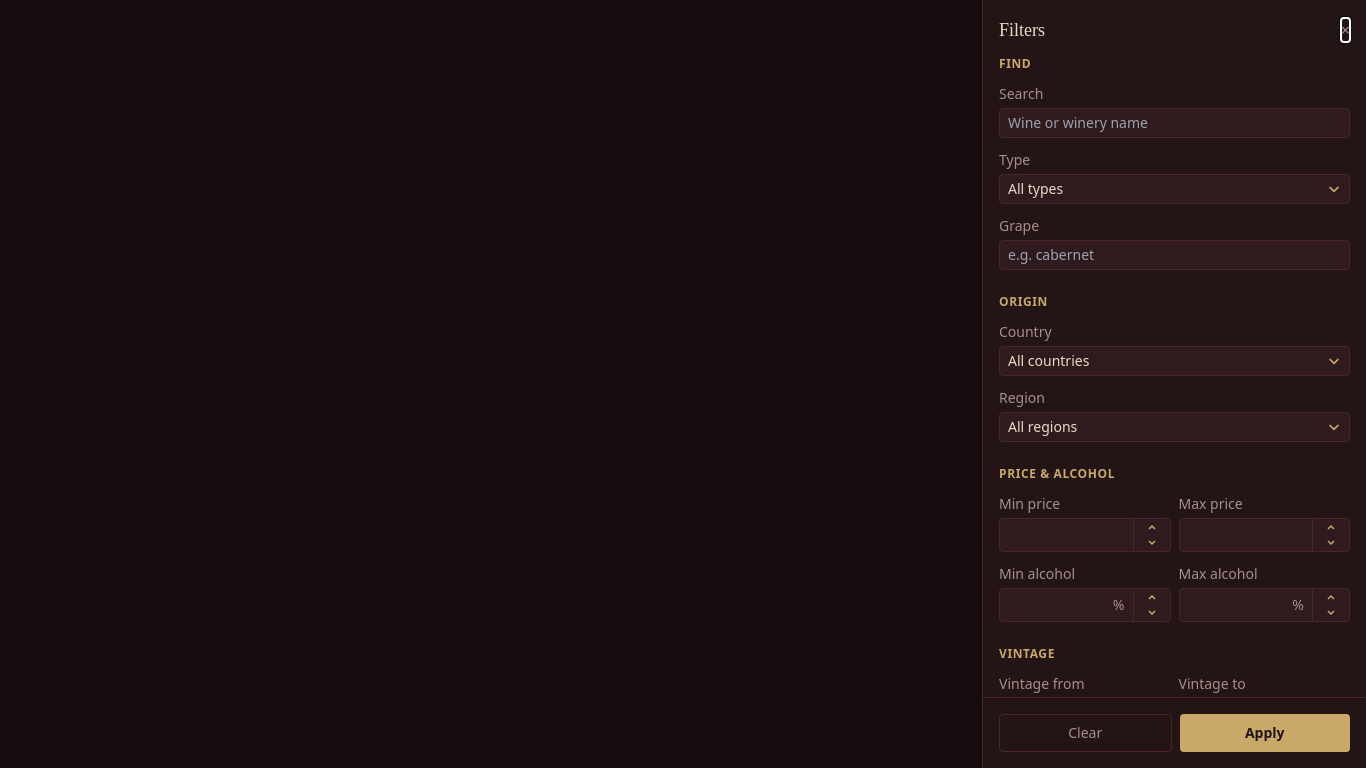
Test: FilterDrawer › groups every region by country when no country is chosen
Step 1. Click the dropdown labelled "Region" → {"x": 1174, "y": 427}, box [999,412,1350,442]
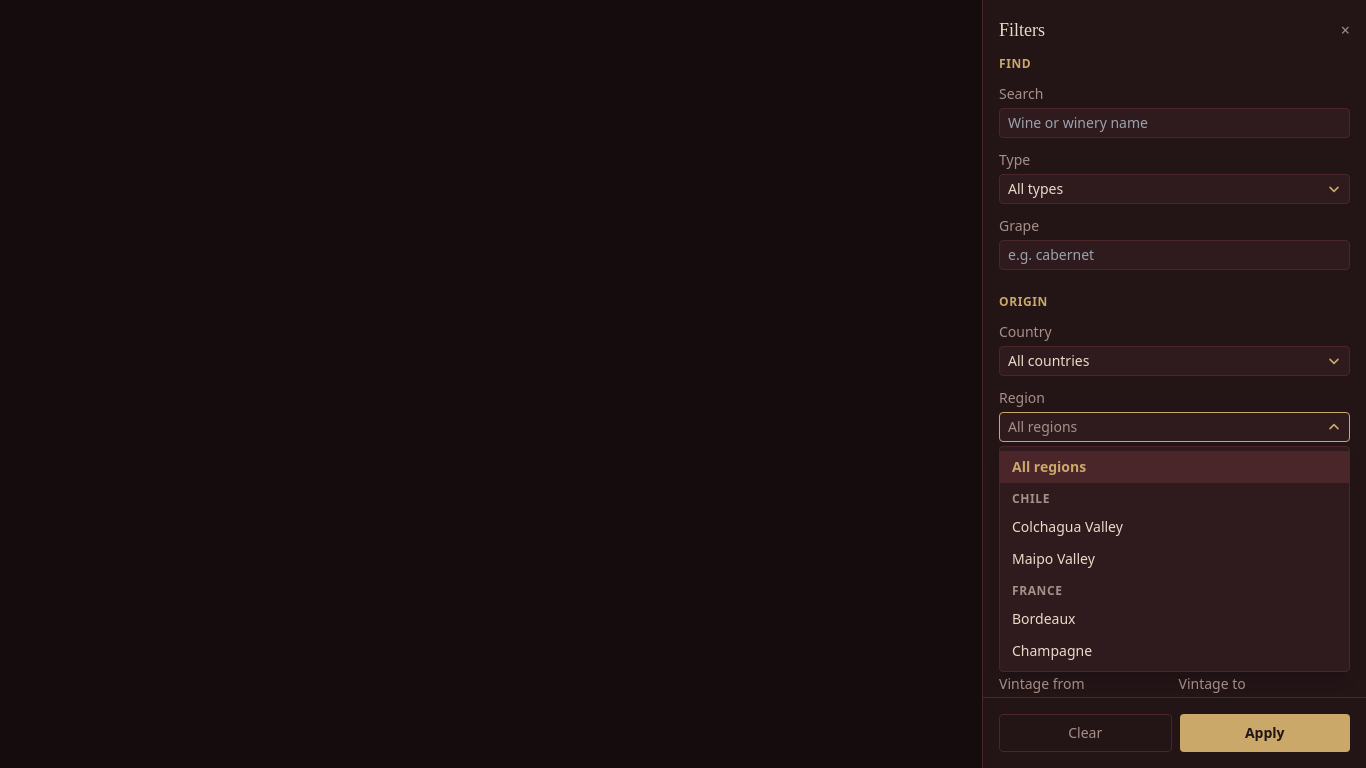
Expected: the list named "Chile" reads "Colchagua Valley Maipo Valley", [1012,517,1123,568]
Expected: the list named "France" reads "Bordeaux Champagne", [1012,609,1092,660]
